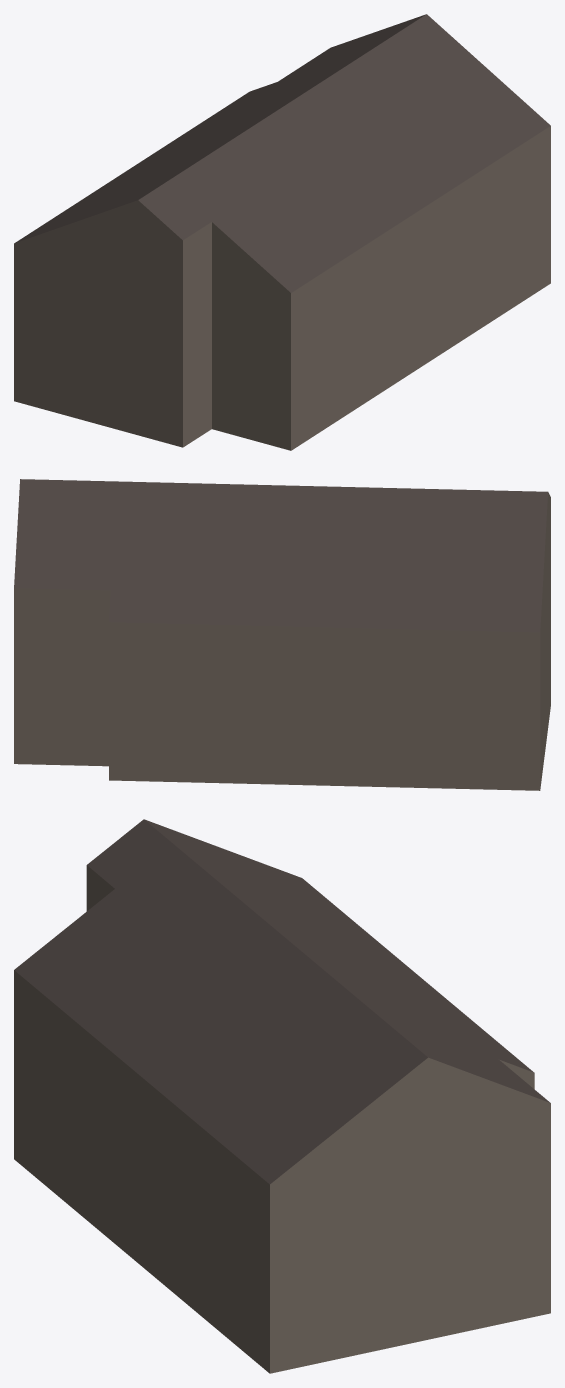
The picture shows the model from 3 angles, top to bottom: view 1: azimuth 30°, elevation 25°; view 2: azimuth 150°, elevation 25°; view 3: azimuth 270°, elevation 25°; orthographic projection. The views are drawn at different scales.
Visible parts, largest first — view 1: HP-w299010095; view 2: HP-w299010095; view 3: HP-w299010095.
Boxes of the visible parts, x1,y1,x2,y2 form: HP-w299010095: [14, 14, 550, 450]; HP-w299010095: [14, 479, 550, 790]; HP-w299010095: [14, 819, 550, 1373].
Bounding box in the file's own units: 31.26 × 13.42 × 23.15.
